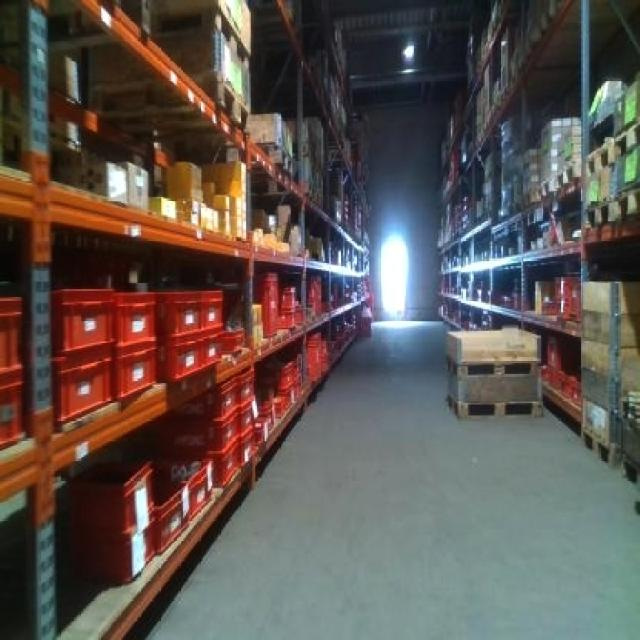pallets: (68, 458, 151, 580), (446, 326, 538, 414)
